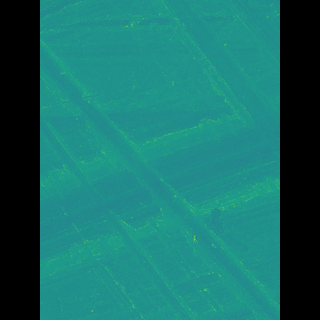Loch: (69, 29, 250, 320), (151, 0, 251, 165)
